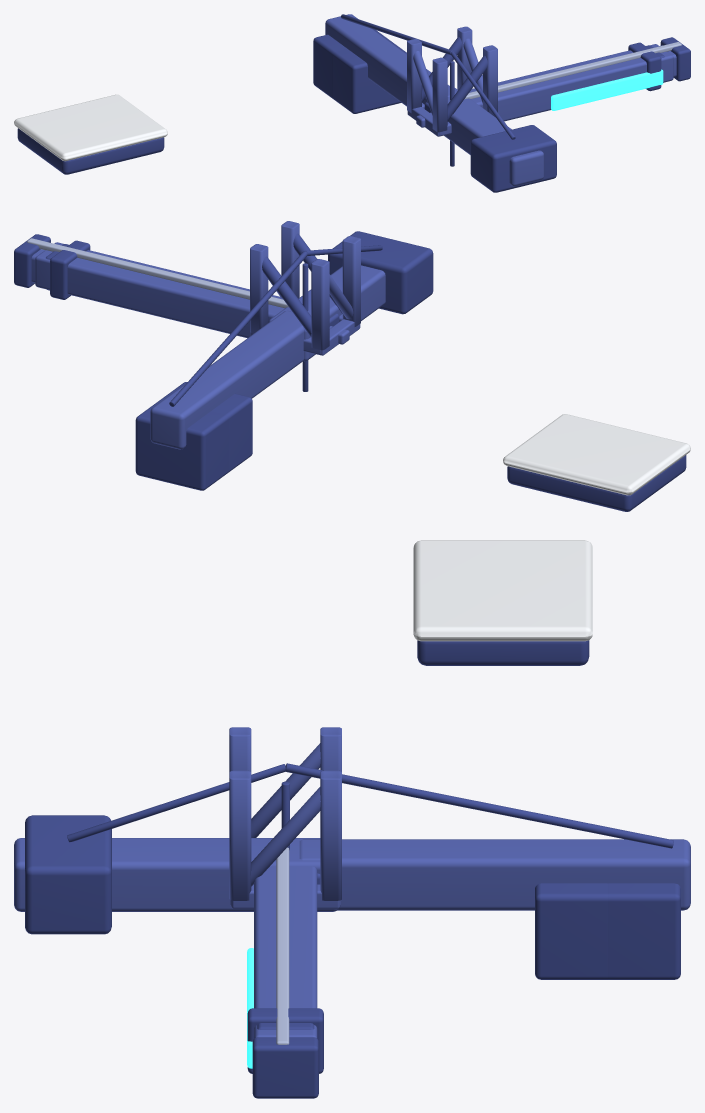
Rendered from winter-crane.glb.
3 renders of one model, top to bottom at view 1: azimuth 30°, elevation 25°; view 2: azimuth 150°, elevation 25°; view 3: azimuth 270°, elevation 25°, orthographic. The views are drawn at different scales.
Parts seen in each view (by area): view 1: Boom • Crane • structural blue, Boom • Crane • satin periwinkle steel, Foot • Snow • soft fresh powder.001, MastSection • Crane • satin periwinkle steel, Rail_0 • Crane • satin periwinkle steel, Foot • Crane • structural blue, Rail_0 • Crane • cyan running light, MastSection • Crane • structural blue, Rail_1 • Crane • structural blue, Rail_2 • Architecture • frost blue frame, Rail_1 • Architecture • frost blue frame, Rail_0 • Architecture • frost blue frame (+3 smaller); view 2: Boom • Crane • structural blue, Boom • Crane • satin periwinkle steel, Foot • Snow • soft fresh powder.001, Rail_0 • Crane • satin periwinkle steel, MastSection • Crane • satin periwinkle steel, Foot • Crane • structural blue, MastSection • Crane • structural blue, Rail_0 • Crane • structural blue, Rail_2 • Architecture • frost blue frame, Rail_1 • Crane • structural blue, Rail_1 • Architecture • frost blue frame, Rail_0 • Architecture • frost blue frame (+2 smaller); view 3: Boom • Crane • satin periwinkle steel, Boom • Crane • structural blue, Foot • Snow • soft fresh powder.001, MastSection • Crane • satin periwinkle steel, Rail_0 • Crane • satin periwinkle steel, Foot • Crane • structural blue, Rail_1 • Crane • structural blue, Rail_2 • Architecture • frost blue frame, Rail_0 • Crane • structural blue, Rail_1 • Architecture • frost blue frame.
Part boxes in pixels (bbox=[...]): Boom • Crane • structural blue: bbox=[313, 14, 556, 192]; Boom • Crane • satin periwinkle steel: bbox=[325, 14, 544, 186]; Foot • Snow • soft fresh powder.001: bbox=[14, 94, 167, 161]; MastSection • Crane • satin periwinkle steel: bbox=[407, 26, 497, 136]; Rail_0 • Crane • satin periwinkle steel: bbox=[469, 50, 646, 121]; Foot • Crane • structural blue: bbox=[17, 128, 164, 174]; Rail_0 • Crane • cyan running light: bbox=[551, 69, 663, 110]; MastSection • Crane • structural blue: bbox=[421, 37, 487, 121]; Rail_1 • Crane • structural blue: bbox=[660, 37, 690, 81]; Rail_2 • Architecture • frost blue frame: bbox=[467, 48, 656, 98]; Rail_1 • Architecture • frost blue frame: bbox=[465, 42, 681, 98]; Rail_0 • Architecture • frost blue frame: bbox=[464, 51, 648, 99]; Boom • Crane • structural blue: bbox=[135, 231, 433, 490]; Boom • Crane • satin periwinkle steel: bbox=[150, 265, 385, 449]; Foot • Snow • soft fresh powder.001: bbox=[503, 414, 690, 495]; Rail_0 • Crane • satin periwinkle steel: bbox=[67, 250, 284, 338]; MastSection • Crane • satin periwinkle steel: bbox=[250, 221, 360, 355]; Foot • Crane • structural blue: bbox=[507, 455, 686, 511]; MastSection • Crane • structural blue: bbox=[262, 233, 342, 336]; Rail_0 • Crane • structural blue: bbox=[50, 240, 90, 299]; Rail_2 • Architecture • frost blue frame: bbox=[57, 245, 287, 307]; Rail_1 • Crane • structural blue: bbox=[14, 234, 50, 287]; Rail_1 • Architecture • frost blue frame: bbox=[27, 238, 287, 308]; Rail_0 • Architecture • frost blue frame: bbox=[67, 247, 288, 307]; Boom • Crane • satin periwinkle steel: bbox=[14, 838, 690, 911]; Boom • Crane • structural blue: bbox=[25, 763, 680, 979]; Foot • Snow • soft fresh powder.001: bbox=[413, 540, 592, 641]; MastSection • Crane • satin periwinkle steel: bbox=[229, 727, 341, 908]; Rail_0 • Crane • satin periwinkle steel: bbox=[254, 866, 317, 1008]; Foot • Crane • structural blue: bbox=[417, 640, 589, 665]; Rail_1 • Crane • structural blue: bbox=[252, 1037, 318, 1098]; Rail_2 • Architecture • frost blue frame: bbox=[278, 848, 287, 1020]; Rail_0 • Crane • structural blue: bbox=[247, 1008, 323, 1073]; Rail_1 • Architecture • frost blue frame: bbox=[276, 848, 289, 1044].
Size of the model in its own units: 6.03 by 1.19 by 3.43.
